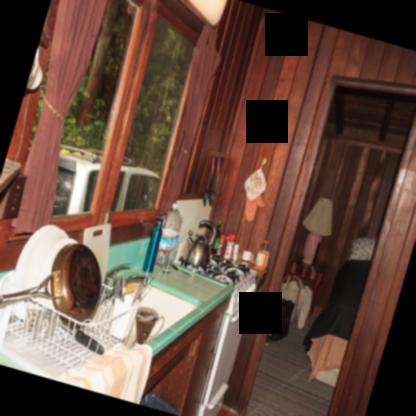suitcase: (265, 295, 295, 345)
